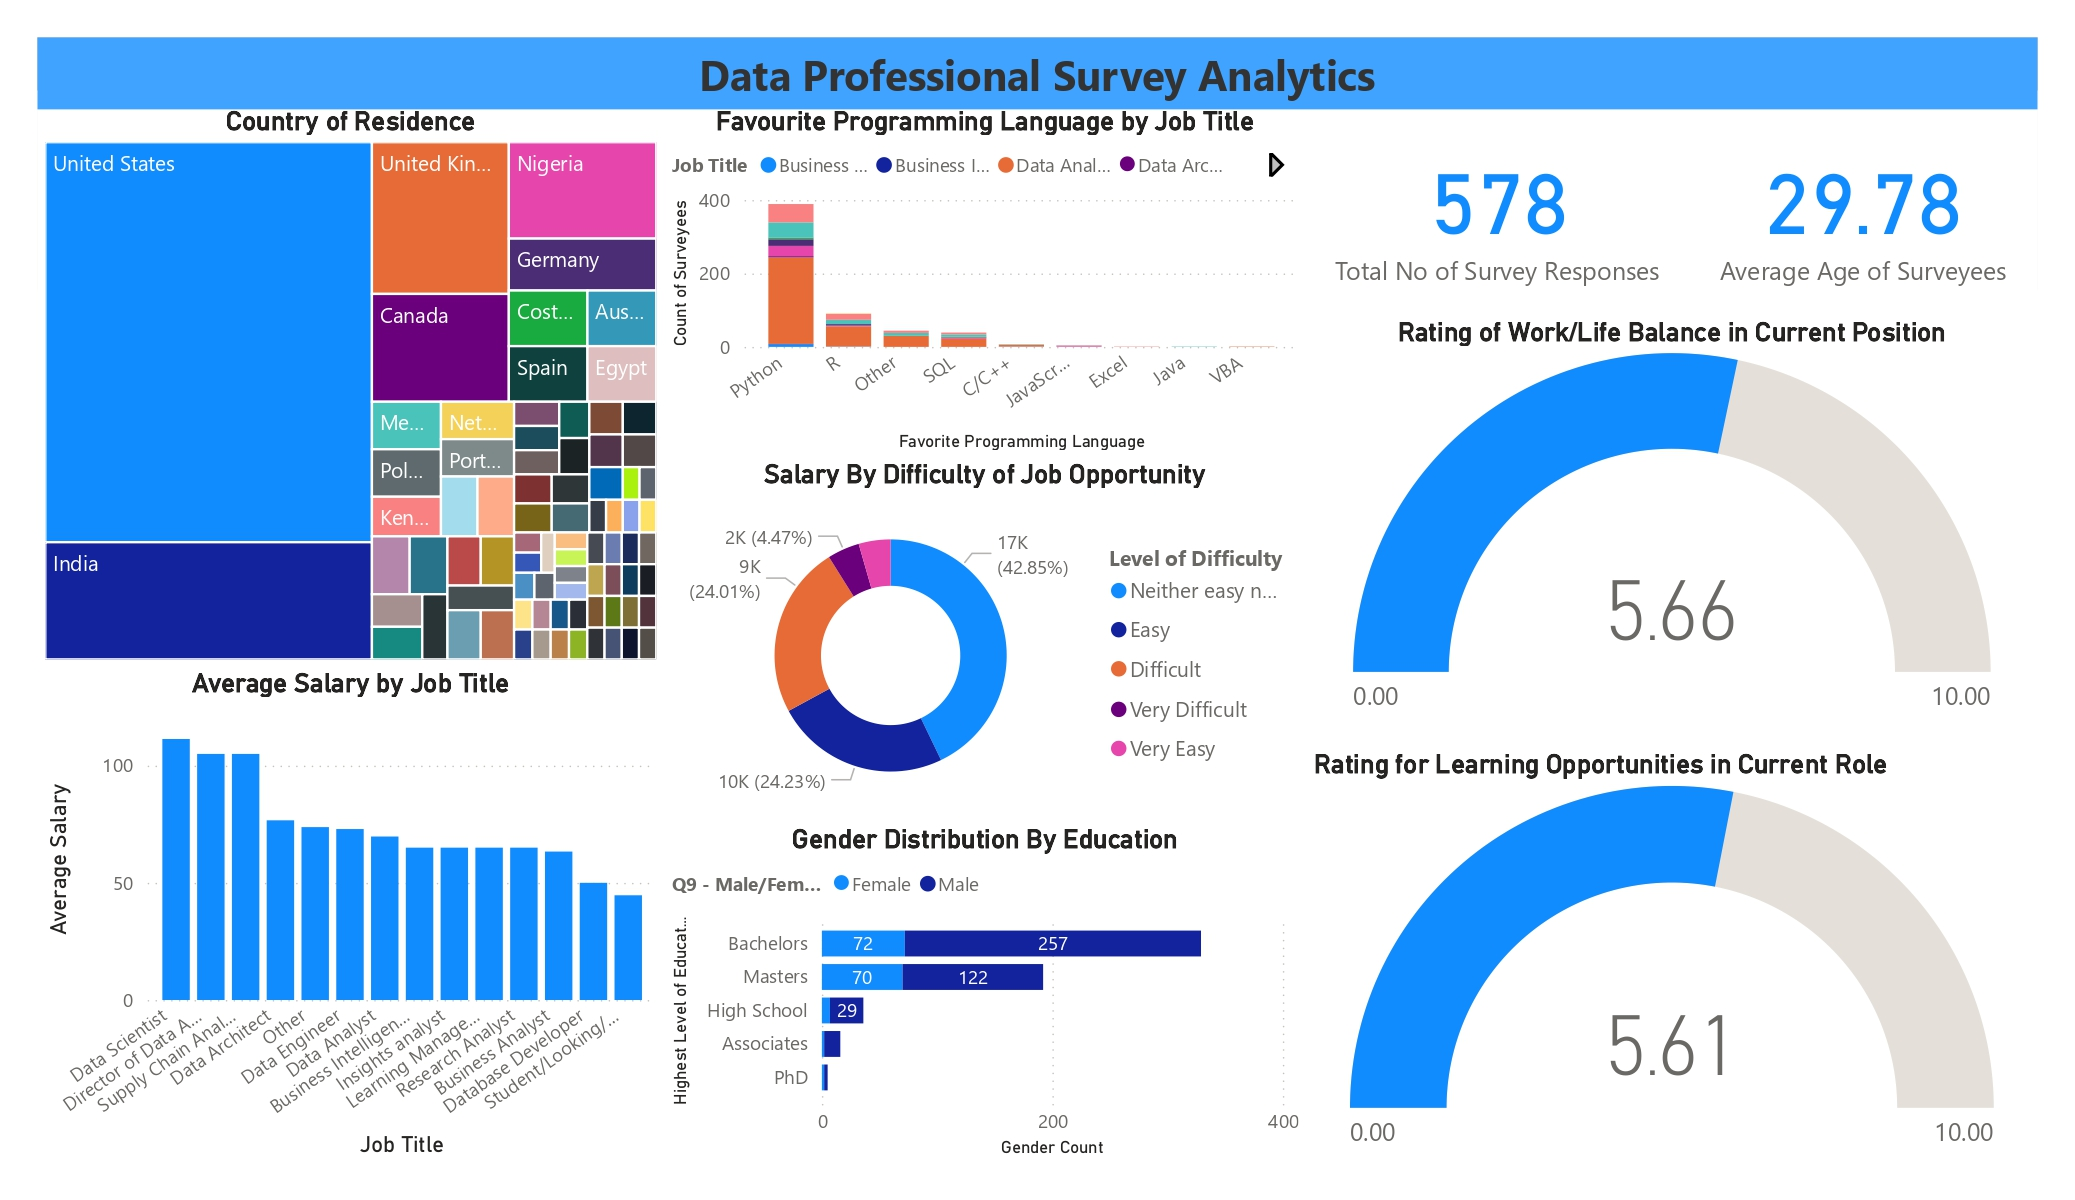

This screenshot's page, from the dashboard's own definition file:
{"tool":"powerbi","page":{"name":"Page 1","canvas":[1280,720],"ordinal":0},"visuals":[{"type":"barChart","title":"Gender Distribution By Education","fields":{"Category":["Data Professional Survey.Q12 - Highest Level of Education"],"Y":["CountNonNull(Data Professional Survey.Q9 - Male/Female?)"],"Series":["Data Professional Survey.Q9 - Male/Female?"]},"box":[401.3,503.2,410.5,217.4],"z":0},{"type":"columnChart","title":"Favourite Programming Language by Job Title","fields":{"Category":["Data Professional Survey.Q5 - Favorite Programming Language.1.1"],"Y":["CountNonNull(Data Professional Survey.Unique ID)"],"Series":["Data Professional Survey.Q1 - Which Title Best Fits your Current Role?.1"]},"box":[401.3,42.6,410.5,226.5],"z":1000},{"type":"columnChart","title":"Average Salary by Job Title","fields":{"Category":["Data Professional Survey.Q1 - Which Title Best Fits your Current Role?.1"],"Y":["Avg(Data Professional Survey.Q3 - Current Yearly Salary (in USD) - Copy.2)"]},"box":[0,402.9,401.3,317.7],"z":2000},{"type":"treemap","title":"Country of Residence","fields":{"Group":["Data Professional Survey.Country"],"Values":["CountNonNull(Data Professional Survey.Unique ID)"]},"box":[0,42.6,401.3,360.3],"z":3000},{"type":"donutChart","title":"Salary By Difficulty of Job Opportunity","fields":{"Category":["Data Professional Survey.Q7 - How difficult was it for you to break into Data?"],"Y":["Sum(Data Professional Survey.Q3 - Current Yearly Salary (in USD) - Copy.2)"]},"box":[401.3,269.1,410.5,234.1],"z":4000},{"type":"card","fields":{"Values":["Count(Data Professional Survey.Unique ID)"]},"box":[811.8,42.6,244.8,135.3],"z":5000},{"type":"card","fields":{"Values":["Avg(Data Professional Survey.Q10 - Current Age)"]},"box":[1056.5,42.6,223.5,135.3],"z":6000},{"type":"gauge","title":"Rating of Work/Life Balance in Current Position","fields":{"Y":["Avg(Data Professional Survey.Q6 - How Happy are you in your Current Position with the following? (Work/Life Balance))"],"MaxValue":["Max(Data Professional Survey.Q6 - How Happy are you in your Current Position with the following? (Work/Life Balance))1"],"MinValue":["Min(Data Professional Survey.Q6 - How Happy are you in your Current Position with the following? (Work/Life Balance))2"]},"box":[811.8,177.9,468.2,264.5],"z":7000},{"type":"gauge","title":"Rating for Learning Opportunities in Current Role","fields":{"Y":["Avg(Data Professional Survey.Q6 - How Happy are you in your Current Position with the following? (Learning New Things))"],"MinValue":["Min(Data Professional Survey.Q6 - How Happy are you in your Current Position with the following? (Learning New Things))1"],"MaxValue":["Max(Data Professional Survey.Q6 - How Happy are you in your Current Position with the following? (Learning New Things))2"]},"box":[811.8,454.5,468.2,266],"z":8000},{"type":"textbox","box":[0,0,1280,45.6],"z":9000}]}

Visuals, with their boxes in screenshot pixels (x1, y1, x2, y2):
"Gender Distribution By Education" barChart: region(665, 824, 1306, 1162)
"Favourite Programming Language by Job Title" columnChart: region(665, 104, 1306, 458)
"Average Salary by Job Title" columnChart: region(38, 667, 665, 1162)
"Country of Residence" treemap: region(38, 104, 665, 667)
"Salary By Difficulty of Job Opportunity" donutChart: region(665, 458, 1306, 824)
card - Count(Data Professional Survey.Unique ID): region(1306, 104, 1688, 315)
card - Avg(Data Professional Survey.Q10 - Current Age): region(1688, 104, 2038, 315)
"Rating of Work/Life Balance in Current Position" gauge: region(1306, 315, 2038, 729)
"Rating for Learning Opportunities in Current Role" gauge: region(1306, 748, 2038, 1162)
textbox: region(38, 38, 2038, 109)
